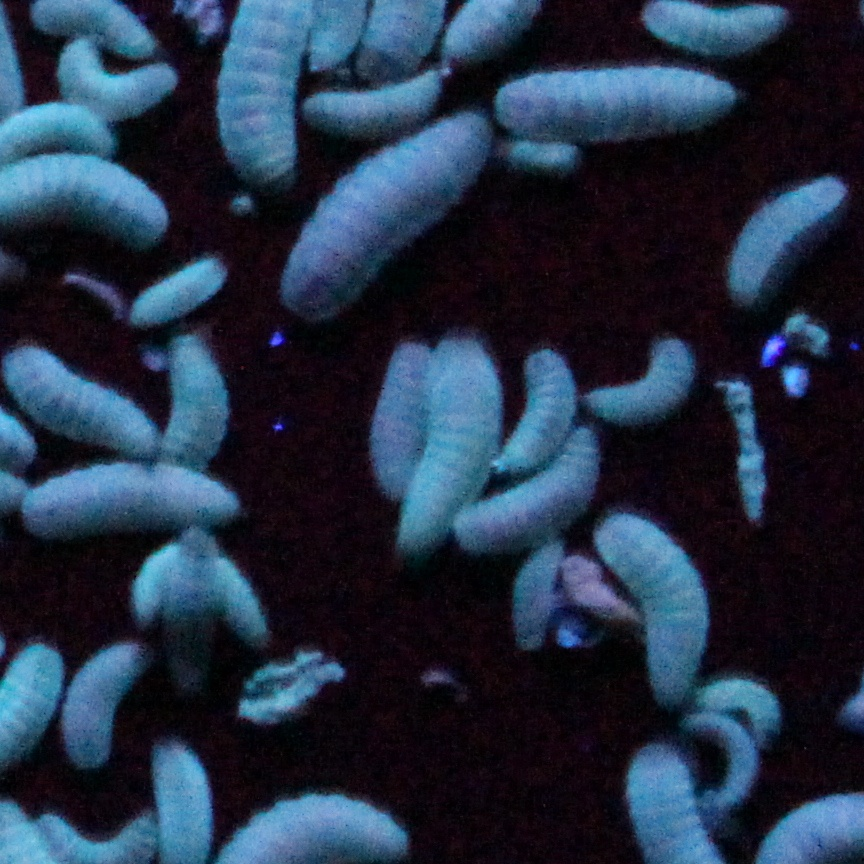larve: (287, 108, 481, 314), (597, 508, 698, 694), (501, 63, 740, 136), (461, 426, 605, 547), (413, 339, 497, 542), (732, 177, 846, 302), (20, 465, 241, 526), (8, 357, 156, 445), (293, 61, 452, 134), (133, 539, 267, 624), (54, 34, 185, 114), (64, 639, 146, 765), (590, 337, 697, 417), (500, 357, 572, 473), (374, 340, 425, 494), (684, 703, 756, 808), (174, 342, 225, 463), (131, 255, 216, 322), (694, 676, 780, 739), (513, 547, 557, 645)
